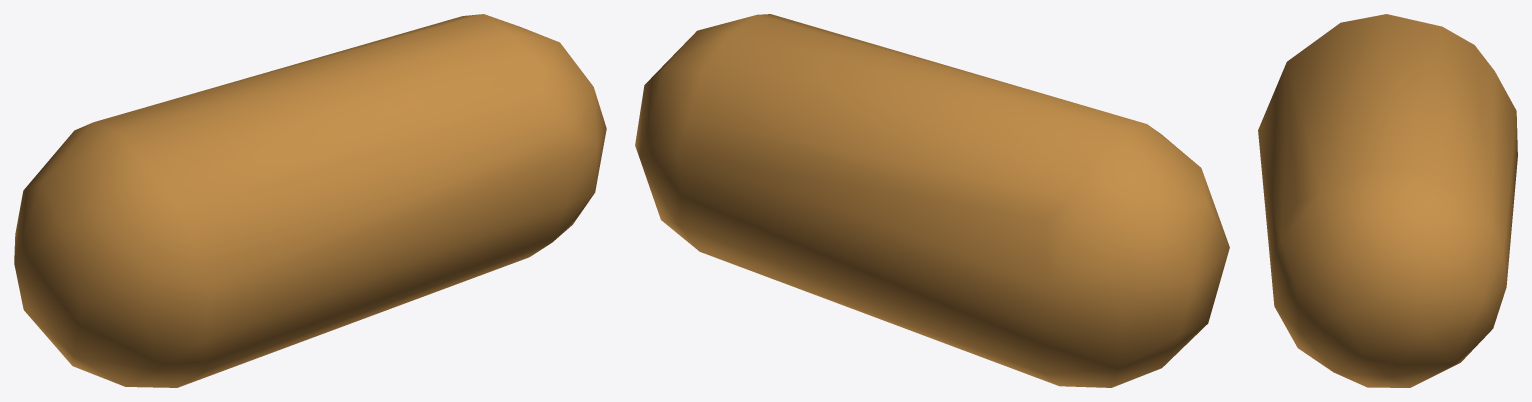
The model's file is banh_mieng.glb.
3 views of the same model, side by side, from view 1: azimuth 30°, elevation 25°; view 2: azimuth 150°, elevation 25°; view 3: azimuth 270°, elevation 25° (orthographic). The views are drawn at different scales.
Visible parts, largest first — view 1: banh_mieng; view 2: banh_mieng; view 3: banh_mieng.
Boxes of the visible parts, x1,y1,x2,y2 form: banh_mieng: (14, 14, 606, 387); banh_mieng: (635, 14, 1229, 387); banh_mieng: (1258, 14, 1517, 387).
Bounding box in the file's own units: 0.1016 × 0.0472 × 0.0439.
